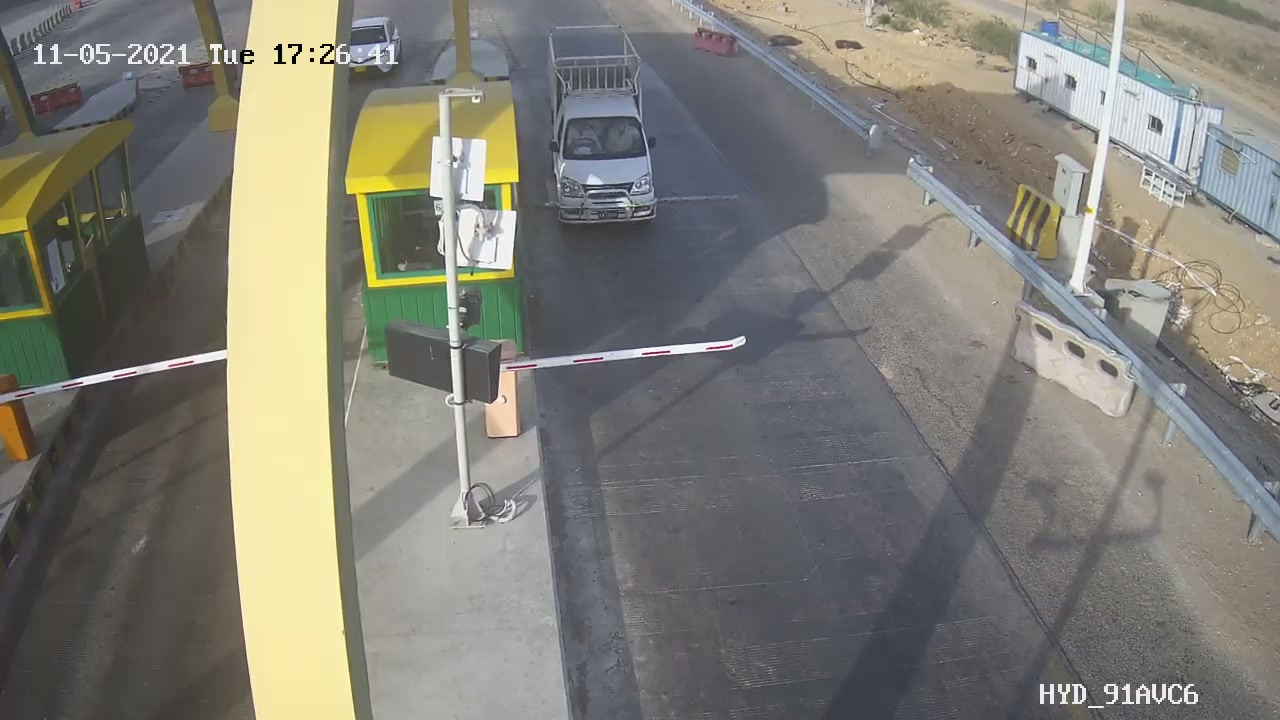F2: (525, 13, 685, 246)
